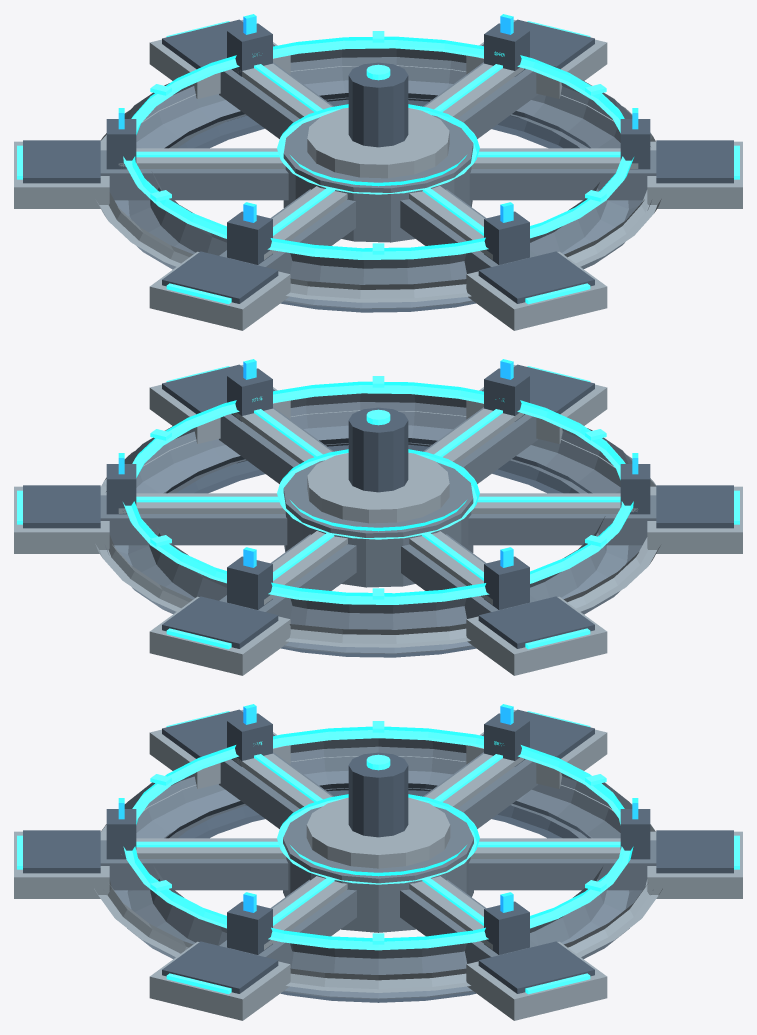
The model's file is Exoterium_LowPoly_Raumstation_120.glb.
The picture shows the model from 3 angles, top to bottom: view 1: azimuth 30°, elevation 25°; view 2: azimuth 150°, elevation 25°; view 3: azimuth 270°, elevation 25°; orthographic projection.
Parts seen in each view (by area): view 1: Outer_Armor_Ring, Blue_Illuminated_Ring, Central_Core, Outer_Trim, Upper_Deck, Connected_Arm_4, Connected_Arm_1, Lower_Armor_Ring, Command_Tower, Dock_Platform_5, Dock_Platform_0, Dock_Upper_Deck_1 (+32 smaller); view 2: Outer_Armor_Ring, Blue_Illuminated_Ring, Central_Core, Outer_Trim, Upper_Deck, Connected_Arm_5, Connected_Arm_2, Lower_Armor_Ring, Command_Tower, Dock_Platform_4, Dock_Platform_3, Dock_Upper_Deck_2 (+32 smaller); view 3: Outer_Armor_Ring, Blue_Illuminated_Ring, Central_Core, Outer_Trim, Upper_Deck, Connected_Arm_0, Connected_Arm_3, Lower_Armor_Ring, Command_Tower, Dock_Platform_1, Dock_Platform_2, Dock_Upper_Deck_0 (+32 smaller).
Part boxes in pixels (x1=…): Outer_Armor_Ring: x1=114, y1=48, x2=651, y2=309; Blue_Illuminated_Ring: x1=123, y1=36, x2=633, y2=259; Central_Core: x1=283, y1=115, x2=473, y2=242; Outer_Trim: x1=96, y1=65, x2=661, y2=302; Upper_Deck: x1=307, y1=107, x2=449, y2=178; Connected_Arm_4: x1=100, y1=150, x2=288, y2=200; Connected_Arm_1: x1=469, y1=150, x2=656, y2=200; Lower_Armor_Ring: x1=164, y1=93, x2=590, y2=312; Command_Tower: x1=348, y1=62, x2=408, y2=147; Dock_Platform_5: x1=149, y1=251, x2=290, y2=330; Dock_Platform_0: x1=466, y1=251, x2=607, y2=330; Dock_Upper_Deck_1: x1=656, y1=140, x2=733, y2=183; Outer_Armor_Ring: x1=105, y1=393, x2=642, y2=654; Blue_Illuminated_Ring: x1=123, y1=381, x2=633, y2=604; Central_Core: x1=283, y1=460, x2=473, y2=587; Outer_Trim: x1=95, y1=410, x2=660, y2=647; Upper_Deck: x1=307, y1=452, x2=449, y2=523; Connected_Arm_5: x1=468, y1=495, x2=656, y2=545; Connected_Arm_2: x1=100, y1=495, x2=287, y2=545; Lower_Armor_Ring: x1=166, y1=438, x2=592, y2=657; Command_Tower: x1=348, y1=407, x2=408, y2=492; Dock_Platform_4: x1=466, y1=596, x2=607, y2=675; Dock_Platform_3: x1=149, y1=596, x2=290, y2=675; Dock_Upper_Deck_2: x1=23, y1=485, x2=100, y2=528; Outer_Armor_Ring: x1=114, y1=738, x2=642, y2=999; Blue_Illuminated_Ring: x1=123, y1=726, x2=633, y2=950; Central_Core: x1=283, y1=806, x2=473, y2=932; Outer_Trim: x1=94, y1=756, x2=662, y2=992; Upper_Deck: x1=306, y1=797, x2=450, y2=868; Connected_Arm_0: x1=100, y1=840, x2=288, y2=890; Connected_Arm_3: x1=468, y1=840, x2=656, y2=890; Lower_Armor_Ring: x1=166, y1=783, x2=590, y2=1002; Command_Tower: x1=348, y1=752, x2=408, y2=837; Dock_Platform_1: x1=149, y1=941, x2=290, y2=1020; Dock_Platform_2: x1=466, y1=941, x2=607, y2=1020; Dock_Upper_Deck_0: x1=23, y1=830, x2=100, y2=873.
Bounding box in the file's own units: 113 × 25.8 × 120.
